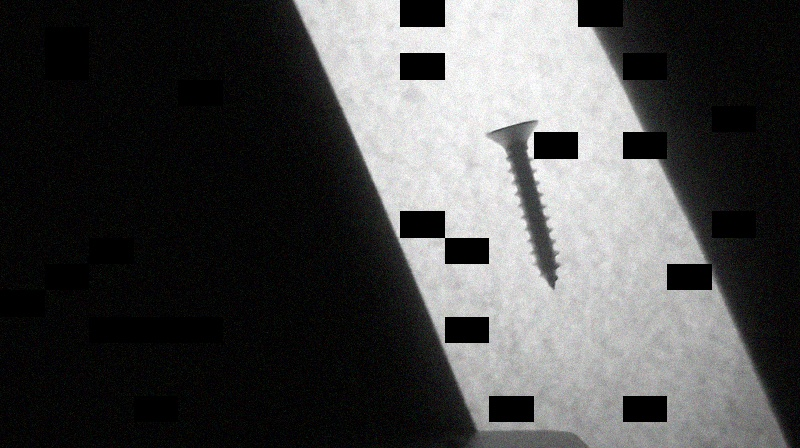S001: (480, 114, 565, 295)
